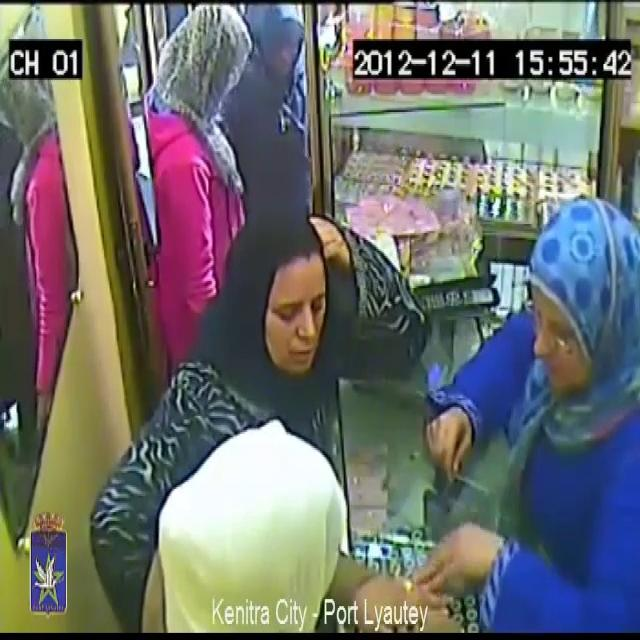Product: (399, 558, 433, 600)
normal: (415, 151, 640, 640), (138, 0, 252, 305), (226, 190, 350, 396), (238, 1, 333, 192)
shoplifting: (149, 396, 462, 640)
